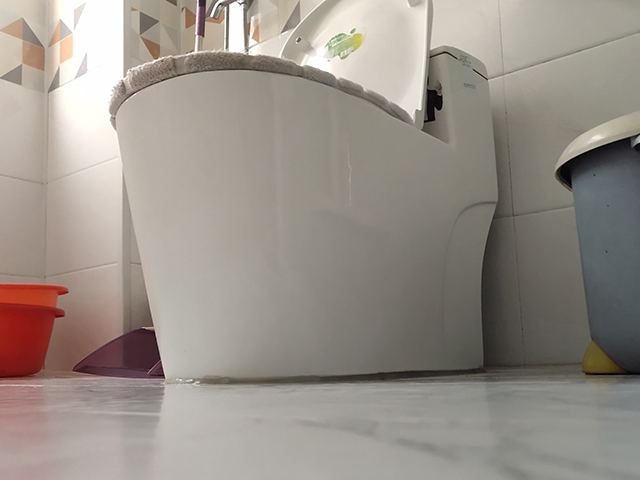closestool: (107, 1, 500, 386)
trashcan: (552, 109, 640, 376)
